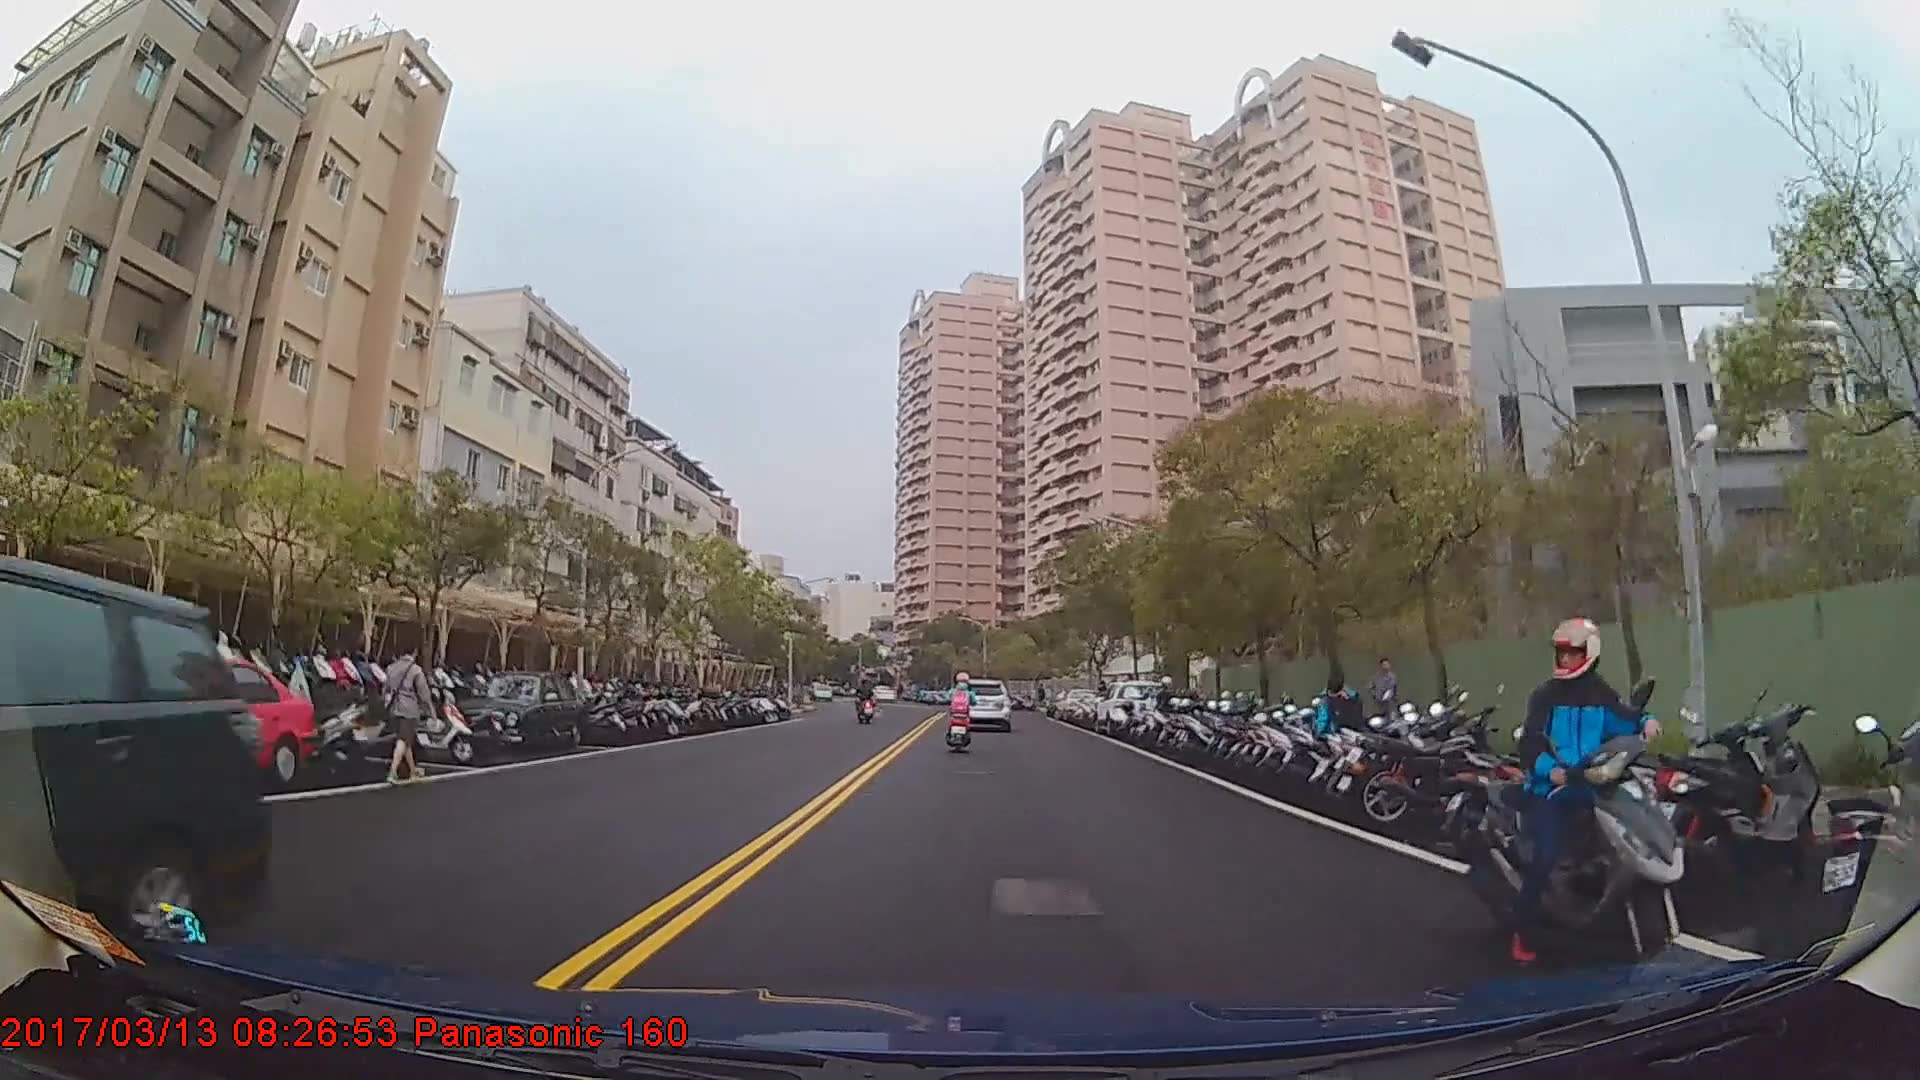pedestrian: (376, 634, 444, 786), (1313, 674, 1367, 787), (1365, 655, 1402, 755)
rider: (1459, 620, 1644, 1000), (945, 673, 978, 750), (855, 680, 876, 724)
vehicle: (0, 550, 268, 970), (93, 660, 319, 788), (453, 669, 584, 755), (1095, 678, 1175, 738), (955, 676, 1011, 728)
